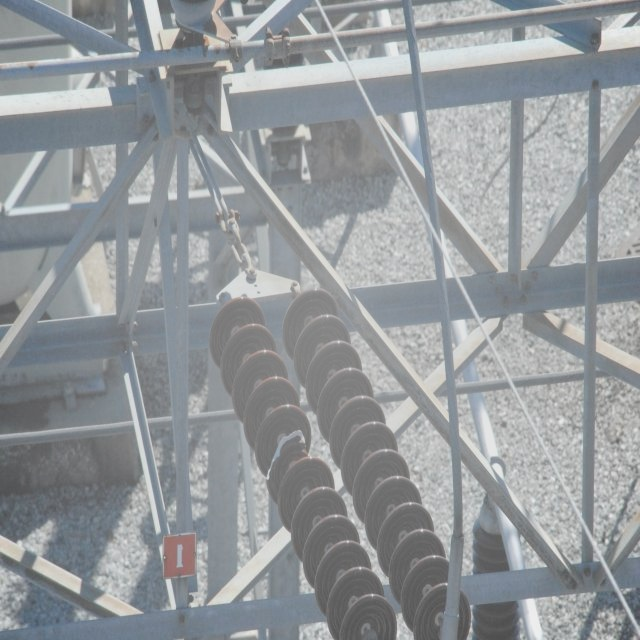broken: (264, 428, 316, 481)
insulator: (209, 289, 472, 640)
